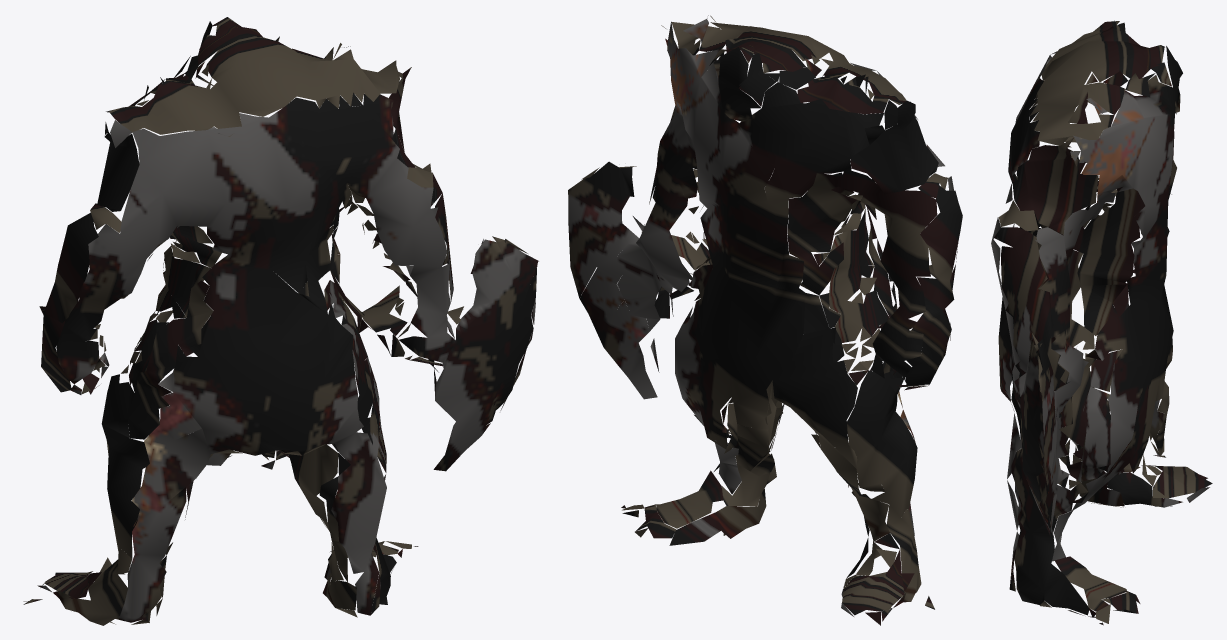
3 views of the same model, side by side, from view 1: azimuth 30°, elevation 25°; view 2: azimuth 150°, elevation 25°; view 3: azimuth 270°, elevation 25° (orthographic). The views are drawn at different scales.
Visible parts, largest first — view 1: body.002; view 2: body.002; view 3: body.002.
Boxes of the visible parts, box(x1,y1,x2,y2) form: body.002: box(23, 17, 538, 625); body.002: box(568, 15, 962, 625); body.002: box(991, 20, 1212, 625).
Size of the model in its own units: 1.72 by 2 by 0.7711.
Materials: 1 (1 with a texture image).
